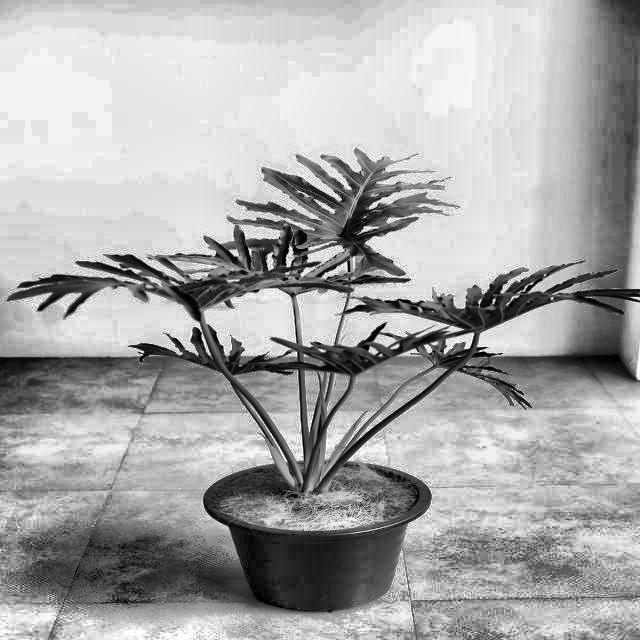plants: (3, 141, 639, 612)
